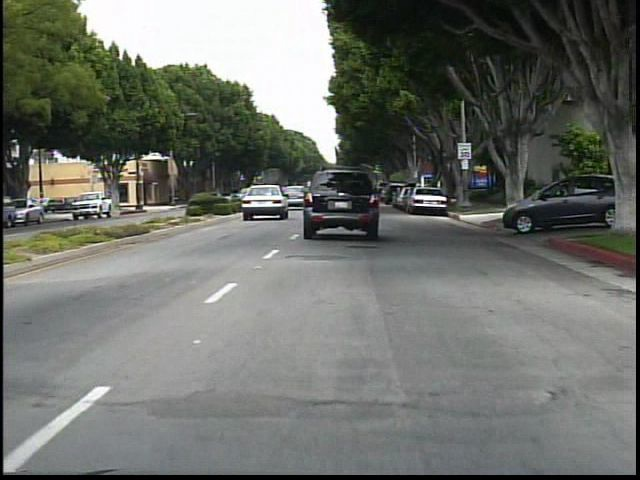person: (503, 169, 523, 212)
